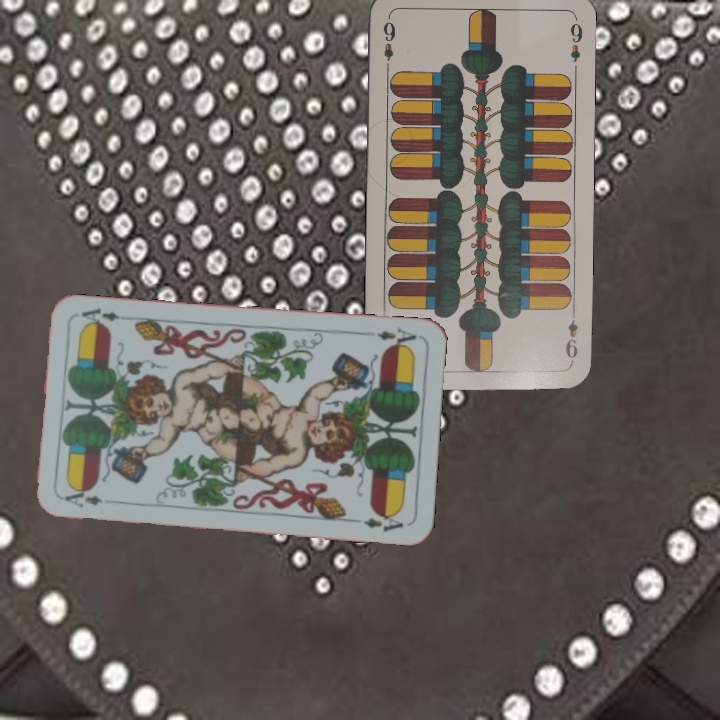E9: (562, 307, 581, 366), (379, 17, 398, 73)
EA: (373, 323, 419, 351), (60, 488, 105, 511)
